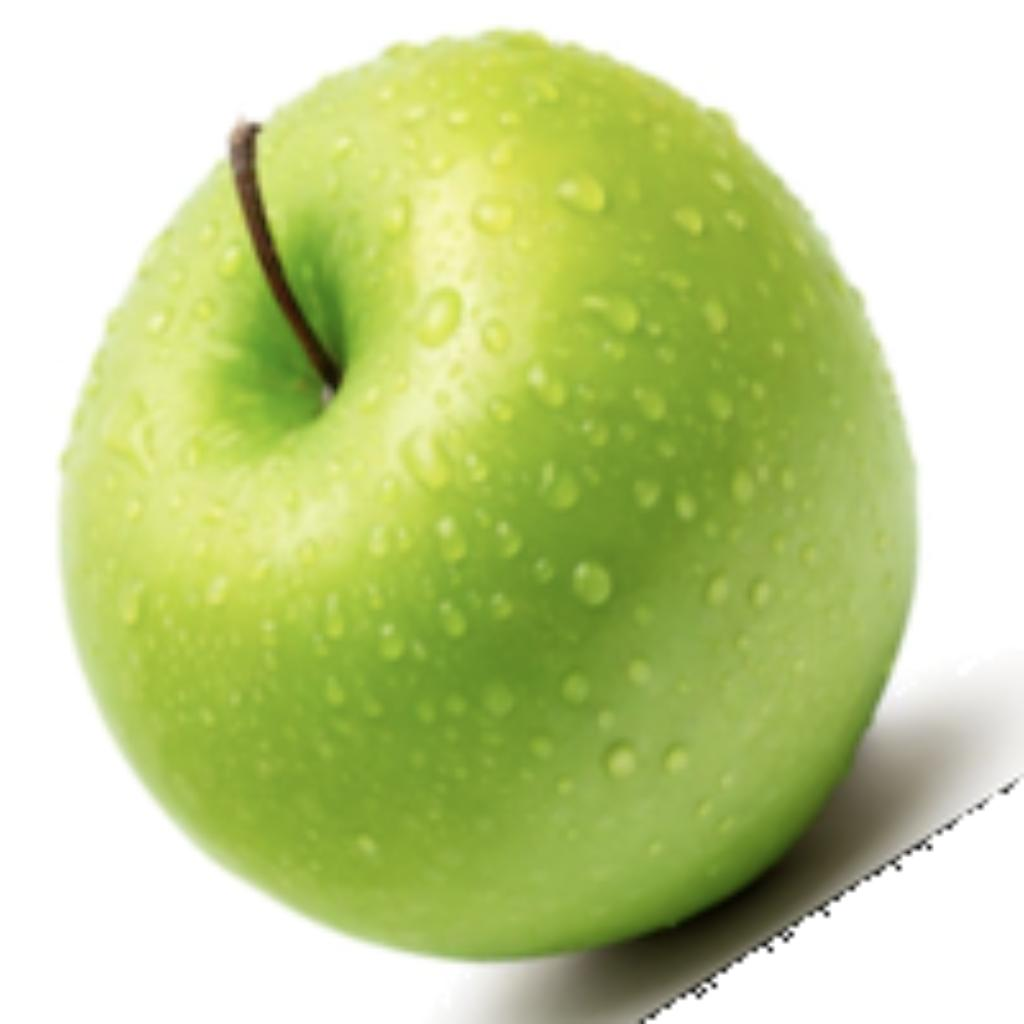apple: (51, 20, 1019, 1019)
